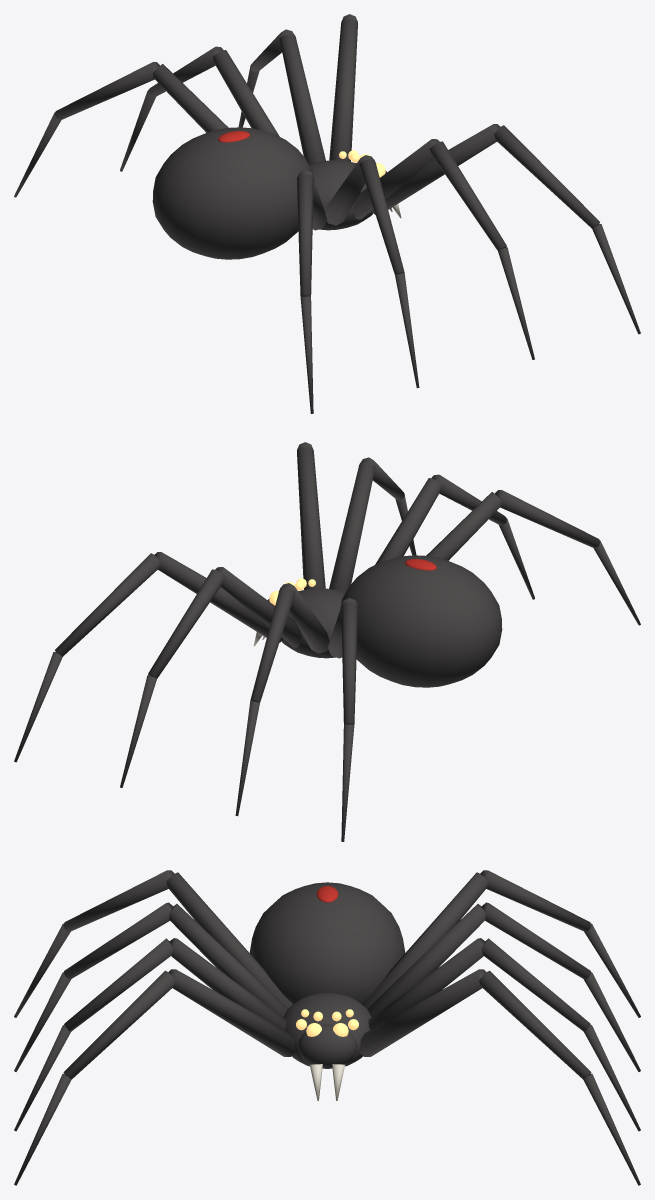
Rendered from monster_spider.fbx.
3 views of the same model, one above another, from view 1: azimuth 30°, elevation 25°; view 2: azimuth 150°, elevation 25°; view 3: azimuth 270°, elevation 25° (orthographic). The views are drawn at different scales.
Visible parts, largest first — view 1: 거미괴물, 거미괴물_다리_R1, 거미괴물_다리_R2, 거미괴물_다리_L4, 거미괴물_다리_R3, 거미괴물_다리_L2, 거미괴물_다리_L3, 거미괴물_다리_R4, 거미괴물_다리_L1; view 2: 거미괴물, 거미괴물_다리_L1, 거미괴물_다리_L2, 거미괴물_다리_R4, 거미괴물_다리_L3, 거미괴물_다리_R2, 거미괴물_다리_R3, 거미괴물_다리_L4, 거미괴물_다리_R1; view 3: 거미괴물, 거미괴물_다리_L1, 거미괴물_다리_R1, 거미괴물_다리_L3, 거미괴물_다리_R3, 거미괴물_다리_L4, 거미괴물_다리_R4, 거미괴물_다리_L2, 거미괴물_다리_R2, 거미괴물_머리.
Boxes of the visible parts, x1,y1,x2,y2 form: 거미괴물: (152, 127, 373, 259); 거미괴물_다리_R1: (371, 124, 640, 334); 거미괴물_다리_R2: (353, 139, 534, 359); 거미괴물_다리_L4: (14, 62, 228, 197); 거미괴물_다리_R3: (325, 155, 419, 387); 거미괴물_다리_L2: (238, 29, 325, 164); 거미괴물_다리_L3: (120, 46, 279, 171); 거미괴물_다리_R4: (297, 170, 327, 413); 거미괴물_다리_L1: (329, 14, 357, 161); 거미괴물: (281, 555, 502, 687); 거미괴물_다리_L1: (14, 552, 283, 762); 거미괴물_다리_L2: (120, 567, 301, 787); 거미괴물_다리_R4: (426, 490, 640, 625); 거미괴물_다리_L3: (235, 583, 329, 815); 거미괴물_다리_R2: (329, 457, 416, 592); 거미괴물_다리_R3: (375, 474, 534, 599); 거미괴물_다리_L4: (327, 598, 357, 841); 거미괴물_다리_R1: (297, 442, 325, 589); 거미괴물: (249, 882, 405, 1068); 거미괴물_다리_L1: (359, 969, 640, 1185); 거미괴물_다리_R1: (14, 969, 295, 1185); 거미괴물_다리_L3: (367, 902, 640, 1071); 거미괴물_다리_R3: (14, 902, 287, 1071); 거미괴물_다리_L4: (362, 870, 640, 1017); 거미괴물_다리_R4: (14, 870, 292, 1017); 거미괴물_다리_L2: (368, 938, 640, 1131); 거미괴물_다리_R2: (14, 938, 286, 1131); 거미괴물_머리: (296, 1009, 358, 1100).
Bounding box in the file's own units: 10837 × 5367 × 16871.
